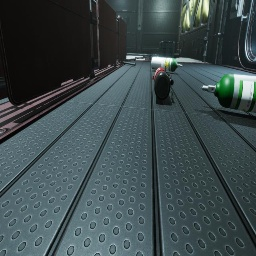0: (200, 74, 256, 113), (151, 57, 183, 72)
FireExtinguisher ]: (152, 67, 174, 101)
SafetySwitchPanel ,: (230, 0, 244, 20)
